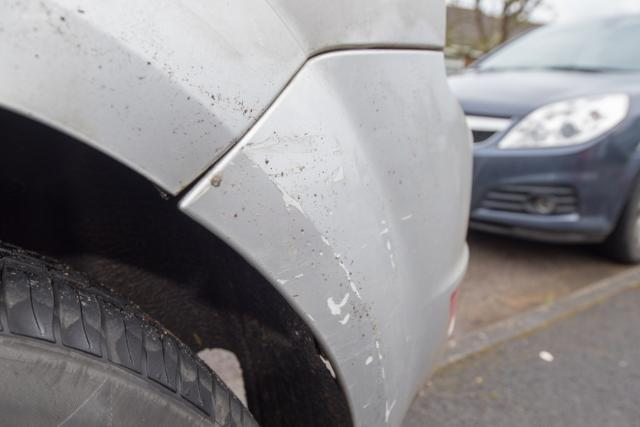Bumper: (171, 49, 474, 427)
Fender: (0, 0, 320, 187)
